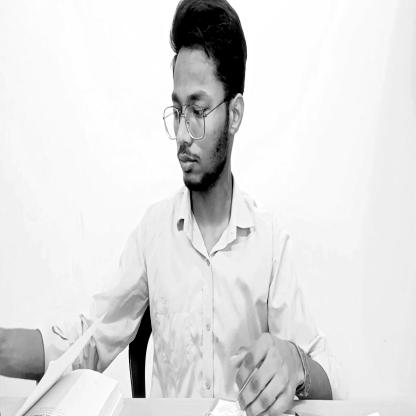Distracted: (165, 3, 249, 199)
